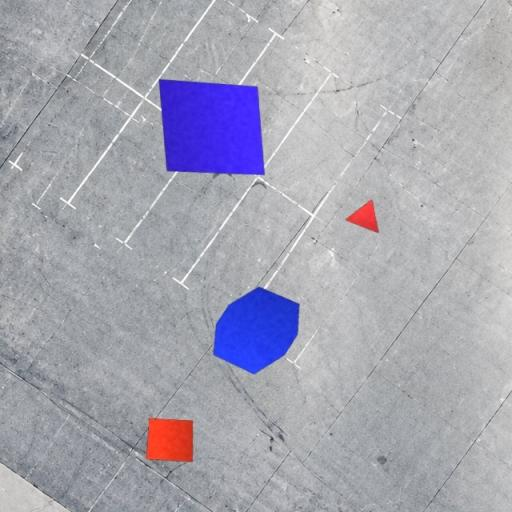BLUE_SQUARE: (158, 78, 265, 176)
RED_SQUARE: (146, 418, 194, 462)
